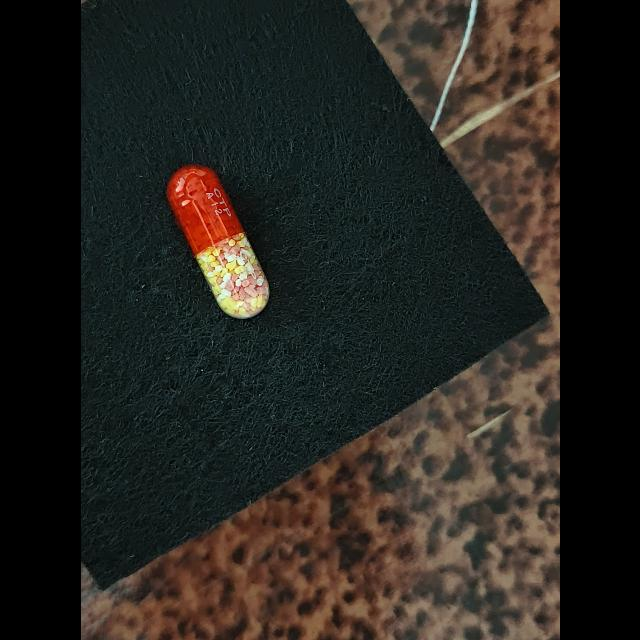Intact Capsule: (165, 165, 269, 319)
